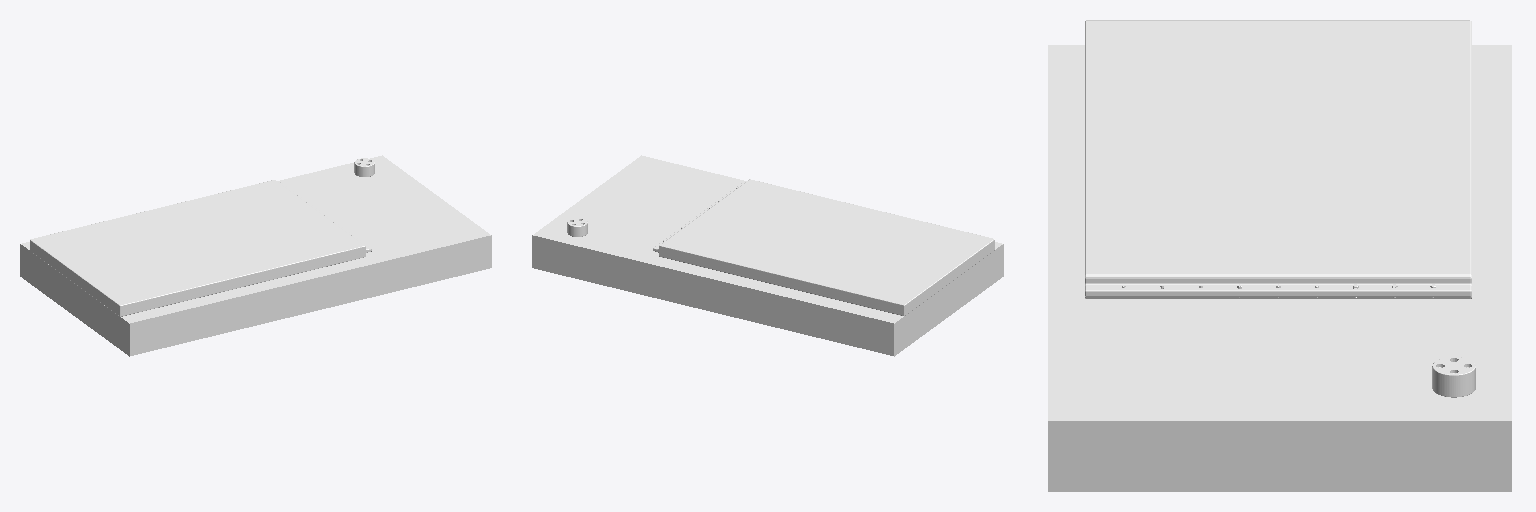
--- Facts derived from the render (not from the file) ---
The picture shows the robot from 3 angles, left to right: view 1: azimuth 30°, elevation 25°; view 2: azimuth 150°, elevation 25°; view 3: azimuth 270°, elevation 25°; orthographic projection.
Robot: battery_pack — 21 links, 20 joints (20 fixed); root link battery_pack_base_link; default pose: all joints at 0.
Links seen in each view (by area): view 1: battery_pack_base_link, battery_link; view 2: battery_pack_base_link, battery_link; view 3: battery_link, battery_pack_base_link, sleeve_plate_link.
Link boxes in pixels (x1,y1,x2,y2): battery_pack_base_link: [20, 155, 491, 356]; battery_link: [30, 180, 371, 316]; battery_pack_base_link: [532, 155, 1003, 356]; battery_link: [653, 179, 994, 315]; battery_link: [1085, 20, 1471, 298]; battery_pack_base_link: [1048, 45, 1511, 491]; sleeve_plate_link: [1432, 357, 1475, 397].
Bounding box of the posed robot: 2.3 × 1.2 × 0.27 m (x, y, z).
Meshes: 21 distinct files referenced, 17 mesh visuals loaded (17 binary STL); not drawn: 4 (reference not matched to a file when rendering).

URDF robot description (battery_pack):
<?xml version="1.0" encoding="utf-8"?>
<!-- This URDF was automatically created by SolidWorks to URDF Exporter! Originally created by Stephen Brawner ([email redacted]) 
     Commit Version: 1.6.0-4-g7f85cfe  Build Version: 1.6.7995.38578
     For more information, please see http://wiki.ros.org/sw_urdf_exporter -->
<robot
  name="battery_pack">
  <link
    name="battery_pack_base_link">
    <inertial>
      <origin
        xyz="-0.95 0 -0.1"
        rpy="0 0 0" />
      <mass
        value="552" />
      <inertia
        ixx="68.08"
        ixy="-7.8419E-15"
        ixz="4.0486E-16"
        iyy="245.18"
        iyz="6.6498E-16"
        izz="309.58" />
    </inertial>
    <visual>
      <origin
        xyz="0 0 0"
        rpy="0 0 0" />
      <geometry>
        <mesh
          filename="package://battery_pack/meshes/battery_pack_base_link.STL" />
      </geometry>
      <material
        name="battery">
        <color
          rgba="1 1 1 1" />
        <texture
          filename="package://battery_pack/textures/battery.png" />
      </material>
    </visual>
    <collision>
      <origin
        xyz="0 0 0"
        rpy="0 0 0" />
      <geometry>
        <mesh
          filename="package://battery_pack/meshes/battery_pack_base_link.STL" />
      </geometry>
    </collision>
  </link>
  <link
    name="sleeve_plate_link">
    <inertial>
      <origin
        xyz="0.0005113 -0.00023823 -0.033555"
        rpy="0 0 0" />
      <mass
        value="0.58226" />
      <inertia
        ixx="0.00067784"
        ixy="-7.0925E-08"
        ixz="-7.5087E-07"
        iyy="0.00066736"
        iyz="3.231E-07"
        izz="0.00093345" />
    </inertial>
    <visual>
      <origin
        xyz="0 0 0"
        rpy="0 0 0" />
      <geometry>
        <mesh
          filename="package://battery_pack/meshes/sleeve_plate_link.STL" />
      </geometry>
      <material
        name="battery">
        <color
          rgba="1 1 1 1" />
        <texture
          filename="package://battery_pack/textures/battery.png" />
      </material>
    </visual>
    <collision>
      <origin
        xyz="0 0 0"
        rpy="0 0 0" />
      <geometry>
        <mesh
          filename="package://battery_pack/meshes/sleeve_plate_link.STL" />
      </geometry>
    </collision>
  </link>
  <joint
    name="sleeve_plate_joint"
    type="fixed">
    <origin
      xyz="0 0.45 0.065"
      rpy="0 0 0" />
    <parent
      link="battery_pack_base_link" />
    <child
      link="sleeve_plate_link" />
    <axis
      xyz="0 0 0" />
  </joint>
  <link
    name="M6_bolt_1_link">
    <inertial>
      <origin
        xyz="-1.0665E-07 -1.3585E-07 -0.011089"
        rpy="0 0 0" />
      <mass
        value="0.0013212" />
      <inertia
        ixx="1.3904E-07"
        ixy="1.1478E-12"
        ixz="-2.8329E-11"
        iyy="1.3904E-07"
        iyz="5.0437E-11"
        izz="1.0587E-08" />
    </inertial>
    <visual>
      <origin
        xyz="0 0 0"
        rpy="0 0 0" />
      <geometry>
        <mesh
          filename="package://battery_pack/meshes/M6_bolt_1_link.STL" />
      </geometry>
      <material
        name="bolt">
        <color
          rgba="1 1 1 1" />
        <texture
          filename="package://battery_pack/textures/bolt_color.jpg" />
      </material>
    </visual>
    <collision>
      <origin
        xyz="0 0 0"
        rpy="0 0 0" />
      <geometry>
        <mesh
          filename="package://battery_pack/meshes/M6_bolt_1_link.STL" />
      </geometry>
    </collision>
  </link>
  <joint
    name="M6_bolt_1_joint"
    type="fixed">
    <origin
      xyz="-0.5215 -0.404 0.0485"
      rpy="0 0 0" />
    <parent
      link="battery_pack_base_link" />
    <child
      link="M6_bolt_1_link" />
    <axis
      xyz="0 0 1" />
  </joint>
  <link
    name="M6_gasket_1_link">
    <inertial>
      <origin
        xyz="1.1102E-16 -1.1102E-16 -0.003"
        rpy="0 0 0" />
      <mass
        value="9.9286E-05" />
      <inertia
        ixx="1.3185E-09"
        ixy="-1.4343E-25"
        ixz="-6.2918E-27"
        iyy="1.3185E-09"
        iyz="3.9097E-29"
        izz="2.6204E-09" />
    </inertial>
    <visual>
      <origin
        xyz="0 0 0"
        rpy="0 0 0" />
      <geometry>
        <mesh
          filename="package://battery_pack/meshes/M6_gasket_1_link.STL" />
      </geometry>
      <material
        name="bolt">
        <color
          rgba="1 1 1 1" />
        <texture
          filename="package://battery_pack/textures/bolt_color.jpg" />
      </material>
    </visual>
    <collision>
      <origin
        xyz="0 0 0"
        rpy="0 0 0" />
      <geometry>
        <mesh
          filename="package://battery_pack/meshes/M6_gasket_1_link.STL" />
      </geometry>
    </collision>
  </link>
  <joint
    name="M6_gasket_1_joint"
    type="fixed">
    <origin
      xyz="-0.5215 -0.404 0.0485"
      rpy="0 0 0" />
    <parent
      link="battery_pack_base_link" />
    <child
      link="M6_gasket_1_link" />
    <axis
      xyz="0 0 0" />
  </joint>
  <link
    name="M6_bolt_2_link">
    <inertial>
      <origin
        xyz="-1.2416E-07 -1.2007E-07 -0.011089"
        rpy="0 0 0" />
      <mass
        value="0.0013212" />
      <inertia
        ixx="1.3904E-07"
        ixy="1.2595E-12"
        ixz="-2.1199E-11"
        iyy="1.3904E-07"
        iyz="5.3824E-11"
        izz="1.0587E-08" />
    </inertial>
    <visual>
      <origin
        xyz="0 0 0"
        rpy="0 0 0" />
      <geometry>
        <mesh
          filename="package://battery_pack/meshes/M6_bolt_2_link.STL" />
      </geometry>
      <material
        name="bolt">
        <color
          rgba="1 1 1 1" />
        <texture
          filename="package://battery_pack/textures/bolt_color.jpg" />
      </material>
    </visual>
    <collision>
      <origin
        xyz="0 0 0"
        rpy="0 0 0" />
      <geometry>
        <mesh
          filename="package://battery_pack/meshes/M6_bolt_2_link.STL" />
      </geometry>
    </collision>
  </link>
  <joint
    name="M6_bolt_2_joint"
    type="fixed">
    <origin
      xyz="-0.5215 -0.304 0.0485"
      rpy="0 0 0" />
    <parent
      link="battery_pack_base_link" />
    <child
      link="M6_bolt_2_link" />
    <axis
      xyz="0 0 0" />
  </joint>
  <link
    name="M6_gasket_2_link">
    <inertial>
      <origin
        xyz="2.2204E-16 -4.4409E-16 -0.003"
        rpy="0 0 0" />
      <mass
        value="9.9286E-05" />
      <inertia
        ixx="1.3185E-09"
        ixy="-1.4343E-25"
        ixz="-6.2918E-27"
        iyy="1.3185E-09"
        iyz="3.9097E-29"
        izz="2.6204E-09" />
    </inertial>
    <visual>
      <origin
        xyz="0 0 0"
        rpy="0 0 0" />
      <geometry>
        <mesh
          filename="package://battery_pack/meshes/M6_gasket_2_link.STL" />
      </geometry>
      <material
        name="bolt">
        <color
          rgba="1 1 1 1" />
        <texture
          filename="package://battery_pack/textures/bolt_color.jpg" />
      </material>
    </visual>
    <collision>
      <origin
        xyz="0 0 0"
        rpy="0 0 0" />
      <geometry>
        <mesh
          filename="package://battery_pack/meshes/M6_gasket_2_link.STL" />
      </geometry>
    </collision>
  </link>
  <joint
    name="M6_gasket_2_joint"
    type="fixed">
    <origin
      xyz="-0.5215 -0.304 0.0485"
      rpy="0 0 0" />
    <parent
      link="battery_pack_base_link" />
    <child
      link="M6_gasket_2_link" />
    <axis
      xyz="0 0 0" />
  </joint>
  <link
    name="M6_bolt_3_link">
    <inertial>
      <origin
        xyz="-9.4899E-08 -1.4431E-07 -0.011089"
        rpy="0 0 0" />
      <mass
        value="0.0013212" />
      <inertia
        ixx="1.3904E-07"
        ixy="1.0362E-12"
        ixz="-3.2454E-11"
        iyy="1.3904E-07"
        iyz="4.7886E-11"
        izz="1.0587E-08" />
    </inertial>
    <visual>
      <origin
        xyz="0 0 0"
        rpy="0 0 0" />
      <geometry>
        <mesh
          filename="package://battery_pack/meshes/M6_bolt_3_link.STL" />
      </geometry>
      <material
        name="bolt">
        <color
          rgba="1 1 1 1" />
        <texture
          filename="package://battery_pack/textures/bolt_color.jpg" />
      </material>
    </visual>
    <collision>
      <origin
        xyz="0 0 0"
        rpy="0 0 0" />
      <geometry>
        <mesh
          filename="package://battery_pack/meshes/M6_bolt_3_link.STL" />
      </geometry>
    </collision>
  </link>
  <joint
    name="M6_bolt_3_joint"
    type="fixed">
    <origin
      xyz="-0.5215 -0.204 0.0485"
      rpy="0 0 0" />
    <parent
      link="battery_pack_base_link" />
    <child
      link="M6_bolt_3_link" />
    <axis
      xyz="0 0 0" />
  </joint>
  <link
    name="M6_gasket_3_link">
    <inertial>
      <origin
        xyz="5.5511E-17 0 -0.003"
        rpy="0 0 0" />
      <mass
        value="9.9286E-05" />
      <inertia
        ixx="1.3185E-09"
        ixy="-1.4343E-25"
        ixz="-6.2918E-27"
        iyy="1.3185E-09"
        iyz="3.9097E-29"
        izz="2.6204E-09" />
    </inertial>
    <visual>
      <origin
        xyz="0 0 0"
        rpy="0 0 0" />
      <geometry>
        <mesh
          filename="package://battery_pack/meshes/M6_gasket_3_link.STL" />
      </geometry>
      <material
        name="bolt">
        <color
          rgba="1 1 1 1" />
        <texture
          filename="package://battery_pack/textures/bolt_color.jpg" />
      </material>
    </visual>
    <collision>
      <origin
        xyz="0 0 0"
        rpy="0 0 0" />
      <geometry>
        <mesh
          filename="package://battery_pack/meshes/M6_gasket_3_link.STL" />
      </geometry>
    </collision>
  </link>
  <joint
    name="M6_gasket_3_joint"
    type="fixed">
    <origin
      xyz="-0.5215 -0.204 0.0485"
      rpy="0 0 0" />
    <parent
      link="battery_pack_base_link" />
    <child
      link="M6_gasket_3_link" />
    <axis
      xyz="0 0 0" />
  </joint>
  <link
    name="M8_bolt_1_link">
    <inertial>
      <origin
        xyz="-1.7339E-08 -1.0782E-07 -0.011681"
        rpy="0 0 0" />
      <mass
        value="0.0021494" />
      <inertia
        ixx="2.2689E-07"
        ixy="3.8314E-12"
        ixz="-1.9137E-11"
        iyy="2.2689E-07"
        iyz="9.7368E-11"
        izz="2.5923E-08" />
    </inertial>
    <visual>
      <origin
        xyz="0 0 0"
        rpy="0 0 0" />
      <geometry>
        <mesh
          filename="package://battery_pack/meshes/M8_bolt_1_link.STL" />
      </geometry>
      <material
        name="bolt">
        <color
          rgba="1 1 1 1" />
        <texture
          filename="package://battery_pack/textures/bolt_color.jpg" />
      </material>
    </visual>
    <collision>
      <origin
        xyz="0 0 0"
        rpy="0 0 0" />
      <geometry>
        <mesh
          filename="package://battery_pack/meshes/M8_bolt_1_link.STL" />
      </geometry>
    </collision>
  </link>
  <joint
    name="M8_bolt_1_joint"
    type="fixed">
    <origin
      xyz="-0.5215 -0.104 0.0485"
      rpy="0 0 0" />
    <parent
      link="battery_pack_base_link" />
    <child
      link="M8_bolt_1_link" />
    <axis
      xyz="0 0 0" />
  </joint>
  <link
    name="M8_gasket_1_link">
    <inertial>
      <origin
        xyz="5.5511E-17 -5.5511E-17 -0.003"
        rpy="0 0 0" />
      <mass
        value="0.00011965" />
      <inertia
        ixx="2.232E-09"
        ixy="-8.1899E-26"
        ixz="-5.8695E-27"
        iyy="2.232E-09"
        iyz="-2.6964E-27"
        izz="4.4442E-09" />
    </inertial>
    <visual>
      <origin
        xyz="0 0 0"
        rpy="0 0 0" />
      <geometry>
        <mesh
          filename="package://battery_pack/meshes/M8_gasket_1_link.STL" />
      </geometry>
      <material
        name="bolt">
        <color
          rgba="1 1 1 1" />
        <texture
          filename="package://battery_pack/textures/bolt_color.jpg" />
      </material>
    </visual>
    <collision>
      <origin
        xyz="0 0 0"
        rpy="0 0 0" />
      <geometry>
        <mesh
          filename="package://battery_pack/meshes/M8_gasket_1_link.STL" />
      </geometry>
    </collision>
  </link>
  <joint
    name="M8_gasket_1_joint"
    type="fixed">
    <origin
      xyz="-0.5215 -0.104 0.0485"
      rpy="0 0 0" />
    <parent
      link="battery_pack_base_link" />
    <child
      link="M8_gasket_1_link" />
    <axis
      xyz="0 0 0" />
  </joint>
  <link
    name="M8_bolt_2_link">
    <inertial>
      <origin
        xyz="3.1115E-08 -1.0468E-07 -0.011681"
        rpy="0 0 0" />
      <mass
        value="0.0021494" />
      <inertia
        ixx="2.2689E-07"
        ixy="2.0426E-12"
        ixz="-5.9454E-11"
        iyy="2.2689E-07"
        iyz="7.9448E-11"
        izz="2.5923E-08" />
    </inertial>
    <visual>
      <origin
        xyz="0 0 0"
        rpy="0 0 0" />
      <geometry>
        <mesh
          filename="package://battery_pack/meshes/M8_bolt_2_link.STL" />
      </geometry>
      <material
        name="bolt">
        <color
          rgba="1 1 1 1" />
        <texture
          filename="package://battery_pack/textures/bolt_color.jpg" />
      </material>
    </visual>
    <collision>
      <origin
        xyz="0 0 0"
        rpy="0 0 0" />
      <geometry>
        <mesh
          filename="package://battery_pack/meshes/M8_bolt_2_link.STL" />
      </geometry>
    </collision>
  </link>
  <joint
    name="M8_bolt_2_joint"
    type="fixed">
    <origin
      xyz="-0.5215 -0.004 0.0485"
      rpy="0 0 0" />
    <parent
      link="battery_pack_base_link" />
    <child
      link="M8_bolt_2_link" />
    <axis
      xyz="0 0 0" />
  </joint>
  <link
    name="M8_gasket_2_link">
    <inertial>
      <origin
        xyz="8.3267E-17 -2.2204E-16 -0.003"
        rpy="0 0 0" />
      <mass
        value="0.00011965" />
      <inertia
        ixx="2.232E-09"
        ixy="-8.1899E-26"
        ixz="-3.8783E-27"
        iyy="2.232E-09"
        iyz="-1.8707E-27"
        izz="4.4442E-09" />
    </inertial>
    <visual>
      <origin
        xyz="0 0 0"
        rpy="0 0 0" />
      <geometry>
        <mesh
          filename="package://battery_pack/meshes/M8_gasket_2_link.STL" />
      </geometry>
      <material
        name="bolt">
        <color
          rgba="1 1 1 1" />
        <texture
          filename="package://battery_pack/textures/bolt_color.jpg" />
      </material>
    </visual>
    <collision>
      <origin
        xyz="0 0 0"
        rpy="0 0 0" />
      <geometry>
        <mesh
          filename="package://battery_pack/meshes/M8_gasket_2_link.STL" />
      </geometry>
    </collision>
  </link>
  <joint
    name="M8_gasket_2_joint"
    type="fixed">
    <origin
      xyz="-0.5215 -0.004 0.0485"
      rpy="0 0 0" />
    <parent
      link="battery_pack_base_link" />
    <child
      link="M8_gasket_2_link" />
    <axis
      xyz="0 0 0" />
  </joint>
  <link
    name="M8_bolt_3_link">
    <inertial>
      <origin
        xyz="1.7872E-08 -1.0774E-07 -0.011681"
        rpy="0 0 0" />
      <mass
        value="0.0021494" />
      <inertia
        ixx="2.2689E-07"
        ixy="2.7861E-12"
        ixz="-4.9126E-11"
        iyy="2.2689E-07"
        iyz="8.6217E-11"
        izz="2.5923E-08" />
    </inertial>
    <visual>
      <origin
        xyz="0 0 0"
        rpy="0 0 0" />
      <geometry>
        <mesh
          filename="package://battery_pack/meshes/M8_bolt_3_link.STL" />
      </geometry>
      <material
        name="bolt">
        <color
          rgba="1 1 1 1" />
        <texture
          filename="package://battery_pack/textures/bolt_color.jpg" />
      </material>
    </visual>
    <collision>
      <origin
        xyz="0 0 0"
        rpy="0 0 0" />
      <geometry>
        <mesh
          filename="package://battery_pack/meshes/M8_bolt_3_link.STL" />
      </geometry>
    </collision>
  </link>
  <joint
    name="M8_bolt_3_joint"
    type="fixed">
    <origin
      xyz="-0.5215 0.096 0.0485"
      rpy="0 0 0" />
    <parent
      link="battery_pack_base_link" />
    <child
      link="M8_bolt_3_link" />
    <axis
      xyz="0 0 0" />
  </joint>
  <link
    name="M8_gasket_3_link">
    <inertial>
      <origin
        xyz="2.7756E-17 -1.1102E-16 -0.003"
        rpy="0 0 0" />
      <mass
        value="0.00011965" />
      <inertia
        ixx="2.232E-09"
        ixy="-8.1899E-26"
        ixz="-3.8783E-27"
        iyy="2.232E-09"
        iyz="-1.8707E-27"
        izz="4.4442E-09" />
    </inertial>
    <visual>
      <origin
        xyz="0 0 0"
        rpy="0 0 0" />
      <geometry>
        <mesh
          filename="package://battery_pack/meshes/M8_gasket_3_link.STL" />
      </geometry>
      <material
        name="bolt">
        <color
          rgba="1 1 1 1" />
        <texture
          filename="package://battery_pack/textures/bolt_color.jpg" />
      </material>
    </visual>
    <collision>
      <origin
        xyz="0 0 0"
        rpy="0 0 0" />
      <geometry>
        <mesh
          filename="package://battery_pack/meshes/M8_gasket_3_link.STL" />
      </geometry>
    </collision>
  </link>
  <joint
    name="M8_gasket_3_joint"
    type="fixed">
    <origin
      xyz="-0.5215 0.096 0.0485"
      rpy="0 0 0" />
    <parent
      link="battery_pack_base_link" />
    <child
      link="M8_gasket_3_link" />
    <axis
      xyz="0 0 0" />
  </joint>
  <link
    name="M10_bolt_1_link">
    <inertial>
      <origin
        xyz="6.7137E-08 -1.4735E-07 -0.012051"
        rpy="0 0 0" />
      <mass
        value="0.003184" />
      <inertia
        ixx="3.3964E-07"
        ixy="8.9575E-12"
        ixz="1.1026E-11"
        iyy="3.3963E-07"
        iyz="1.5169E-10"
        izz="5.4565E-08" />
    </inertial>
    <visual>
      <origin
        xyz="0 0 0"
        rpy="0 0 0" />
      <geometry>
        <mesh
          filename="package://battery_pack/meshes/M10_bolt_1_link.STL" />
      </geometry>
      <material
        name="bolt">
        <color
          rgba="1 1 1 1" />
        <texture
          filename="package://battery_pack/textures/bolt_color.jpg" />
      </material>
    </visual>
    <collision>
      <origin
        xyz="0 0 0"
        rpy="0 0 0" />
      <geometry>
        <mesh
          filename="package://battery_pack/meshes/M10_bolt_1_link.STL" />
      </geometry>
    </collision>
  </link>
  <joint
    name="M10_bolt_1_joint"
    type="fixed">
    <origin
      xyz="-0.5215 0.196 0.0485"
      rpy="0 0 0" />
    <parent
      link="battery_pack_base_link" />
    <child
      link="M10_bolt_1_link" />
    <axis
      xyz="0 0 0" />
  </joint>
  <link
    name="M10_gasket_1_link">
    <inertial>
      <origin
        xyz="0 -2.7756E-17 -0.003"
        rpy="0 0 0" />
      <mass
        value="0.00014002" />
      <inertia
        ixx="3.5046E-09"
        ixy="1.9301E-25"
        ixz="-1.2888E-26"
        iyy="3.5046E-09"
        iyz="-8.9587E-27"
        izz="6.986E-09" />
    </inertial>
    <visual>
      <origin
        xyz="0 0 0"
        rpy="0 0 0" />
      <geometry>
        <mesh
          filename="package://battery_pack/meshes/M10_gasket_1_link.STL" />
      </geometry>
      <material
        name="bolt">
        <color
          rgba="1 1 1 1" />
        <texture
          filename="package://battery_pack/textures/bolt_color.jpg" />
      </material>
    </visual>
    <collision>
      <origin
        xyz="0 0 0"
        rpy="0 0 0" />
      <geometry>
        <mesh
          filename="package://battery_pack/meshes/M10_gasket_1_link.STL" />
      </geometry>
    </collision>
  </link>
  <joint
    name="M10_gasket_1_joint"
    type="fixed">
    <origin
      xyz="-0.5215 0.196 0.0485"
      rpy="0 0 0" />
    <parent
      link="battery_pack_base_link" />
    <child
      link="M10_gasket_1_link" />
    <axis
      xyz="0 0 0" />
  </joint>
  <link
    name="M10_bolt_2_link">
    <inertial>
      <origin
        xyz="1.6074E-07 -1.955E-08 -0.012051"
        rpy="0 0 0" />
      <mass
        value="0.003184" />
      <inertia
        ixx="3.3963E-07"
        ixy="-2.1662E-12"
        ixz="-1.2369E-10"
        iyy="3.3964E-07"
        iyz="8.8507E-11"
        izz="5.4565E-08" />
    </inertial>
    <visual>
      <origin
        xyz="0 0 0"
        rpy="0 0 0" />
      <geometry>
        <mesh
          filename="package://battery_pack/meshes/M10_bolt_2_link.STL" />
      </geometry>
      <material
        name="bolt">
        <color
          rgba="1 1 1 1" />
        <texture
          filename="package://battery_pack/textures/bolt_color.jpg" />
      </material>
    </visual>
    <collision>
      <origin
        xyz="0 0 0"
        rpy="0 0 0" />
      <geometry>
        <mesh
          filename="package://battery_pack/meshes/M10_bolt_2_link.STL" />
      </geometry>
    </collision>
  </link>
  <joint
    name="M10_bolt_2_joint"
    type="fixed">
    <origin
      xyz="-0.5215 0.296 0.0485"
      rpy="0 0 0" />
    <parent
      link="battery_pack_base_link" />
    <child
      link="M10_bolt_2_link" />
    <axis
      xyz="0 0 0" />
  </joint>
  <link
    name="M10_gasket_2_link">
    <inertial>
      <origin
        xyz="5.5511E-17 -2.7756E-17 -0.003"
        rpy="0 0 0" />
      <mass
        value="0.00014002" />
      <inertia
        ixx="3.5046E-09"
        ixy="3.033E-25"
        ixz="-1.4983E-26"
        iyy="3.5046E-09"
        iyz="-1.1844E-26"
        izz="6.986E-09" />
    </inertial>
    <visual>
      <origin
        xyz="0 0 0"
        rpy="0 0 0" />
      <geometry>
        <mesh
          filename="package://battery_pack/meshes/M10_gasket_2_link.STL" />
      </geometry>
      <material
        name="bolt">
        <color
          rgba="1 1 1 1" />
        <texture
          filename="package://battery_pack/textures/bolt_color.jpg" />
      </material>
    </visual>
    <collision>
      <origin
        xyz="0 0 0"
        rpy="0 0 0" />
      <geometry>
        <mesh
          filename="package://battery_pack/meshes/M10_gasket_2_link.STL" />
      </geometry>
    </collision>
  </link>
  <joint
    name="M10_gasket_2_joint"
    type="fixed">
    <origin
      xyz="-0.5215 0.296 0.0485"
      rpy="0 0 0" />
    <parent
      link="battery_pack_base_link" />
    <child
      link="M10_gasket_2_link" />
    <axis
      xyz="0 0 0" />
  </joint>
  <link
    name="M10_bolt_3_link">
    <inertial>
      <origin
        xyz="1.2249E-07 -1.0591E-07 -0.012051"
        rpy="0 0 0" />
      <mass
        value="0.003184" />
      <inertia
        ixx="3.3963E-07"
        ixy="7.476E-12"
        ixz="-5.3259E-11"
        iyy="3.3964E-07"
        iyz="1.4246E-10"
        izz="5.4565E-08" />
    </inertial>
    <visual>
      <origin
        xyz="0 0 0"
        rpy="0 0 0" />
      <geometry>
        <mesh
          filename="package://battery_pack/meshes/M10_bolt_3_link.STL" />
      </geometry>
      <material
        name="bolt">
        <color
          rgba="1 1 1 1" />
        <texture
          filename="package://battery_pack/textures/bolt_color.jpg" />
      </material>
    </visual>
    <collision>
      <origin
        xyz="0 0 0"
        rpy="0 0 0" />
      <geometry>
        <mesh
          filename="package://battery_pack/meshes/M10_bolt_3_link.STL" />
      </geometry>
    </collision>
  </link>
  <joint
    name="M10_bolt_3_joint"
    type="fixed">
    <origin
      xyz="-0.5215 0.396 0.0485"
      rpy="0 0 0" />
    <parent
      link="battery_pack_base_link" />
    <child
      link="M10_bolt_3_link" />
    <axis
      xyz="0 0 0" />
  </joint>
  <link
    name="M10_gasket_3_link">
    <inertial>
      <origin
        xyz="5.5511E-17 1.7347E-17 -0.003"
        rpy="0 0 0" />
      <mass
        value="0.00014002" />
      <inertia
        ixx="3.5046E-09"
        ixy="3.033E-25"
        ixz="-1.4983E-26"
        iyy="3.5046E-09"
        iyz="-1.1844E-26"
        izz="6.986E-09" />
    </inertial>
    <visual>
      <origin
        xyz="0 0 0"
        rpy="0 0 0" />
      <geometry>
        <mesh
          filename="package://battery_pack/meshes/M10_gasket_3_link.STL" />
      </geometry>
      <material
        name="bolt">
        <color
          rgba="1 1 1 1" />
        <texture
          filename="package://battery_pack/textures/bolt_color.jpg" />
      </material>
    </visual>
    <collision>
      <origin
        xyz="0 0 0"
        rpy="0 0 0" />
      <geometry>
        <mesh
          filename="package://battery_pack/meshes/M10_gasket_3_link.STL" />
      </geometry>
    </collision>
  </link>
  <joint
    name="M10_gasket_3_joint"
    type="fixed">
    <origin
      xyz="-0.5215 0.396 0.0485"
      rpy="0 0 0" />
    <parent
      link="battery_pack_base_link" />
    <child
      link="M10_gasket_3_link" />
    <axis
      xyz="0 0 0" />
  </joint>
  <link
    name="battery_link">
    <inertial>
      <origin
        xyz="0 0 0"
        rpy="0 0 0" />
      <mass
        value="0" />
      <inertia
        ixx="0"
        ixy="0"
        ixz="0"
        iyy="0"
        iyz="0"
        izz="0" />
    </inertial>
    <visual>
      <origin
        xyz="0 0 0"
        rpy="0 0 0" />
      <geometry>
        <mesh
          filename="package://battery_pack/meshes/battery_link.STL" />
      </geometry>
      <material
        name="platform">
        <color
          rgba="1 1 1 1" />
        <texture
          filename="package://battery_pack/textures/platform.png" />
      </material>
    </visual>
    <collision>
      <origin
        xyz="0 0 0"
        rpy="0 0 0" />
      <geometry>
        <mesh
          filename="package://battery_pack/meshes/battery_link.STL" />
      </geometry>
    </collision>
  </link>
  <joint
    name="battery_joint"
    type="fixed">
    <origin
      xyz="-0.504 -0.504 0.035"
      rpy="0 0 0" />
    <parent
      link="battery_pack_base_link" />
    <child
      link="battery_link" />
    <axis
      xyz="0 0 0" />
  </joint>
</robot>
